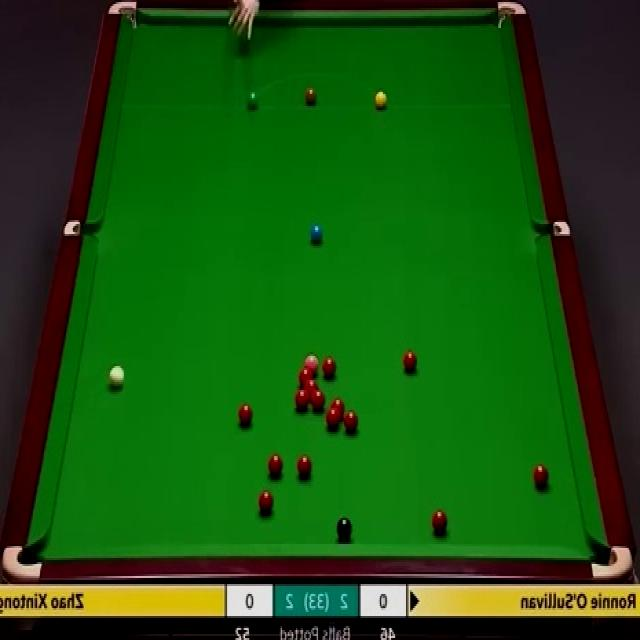pocket: (3, 543, 42, 582), (591, 545, 634, 580), (495, 0, 528, 32), (110, 2, 139, 30), (533, 220, 572, 237), (65, 220, 99, 237)
